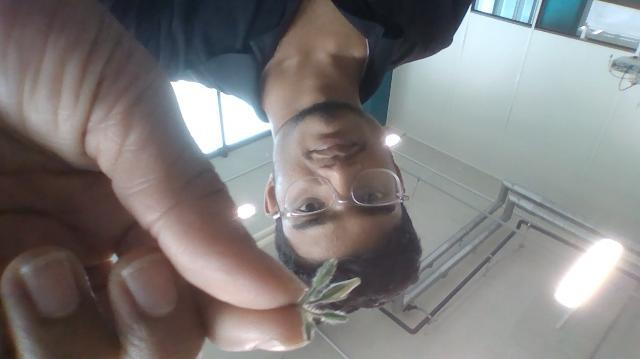Flower Bud: (307, 277, 361, 306), (304, 257, 337, 296), (315, 276, 361, 302), (313, 310, 351, 324), (320, 310, 350, 326), (301, 314, 314, 343)
